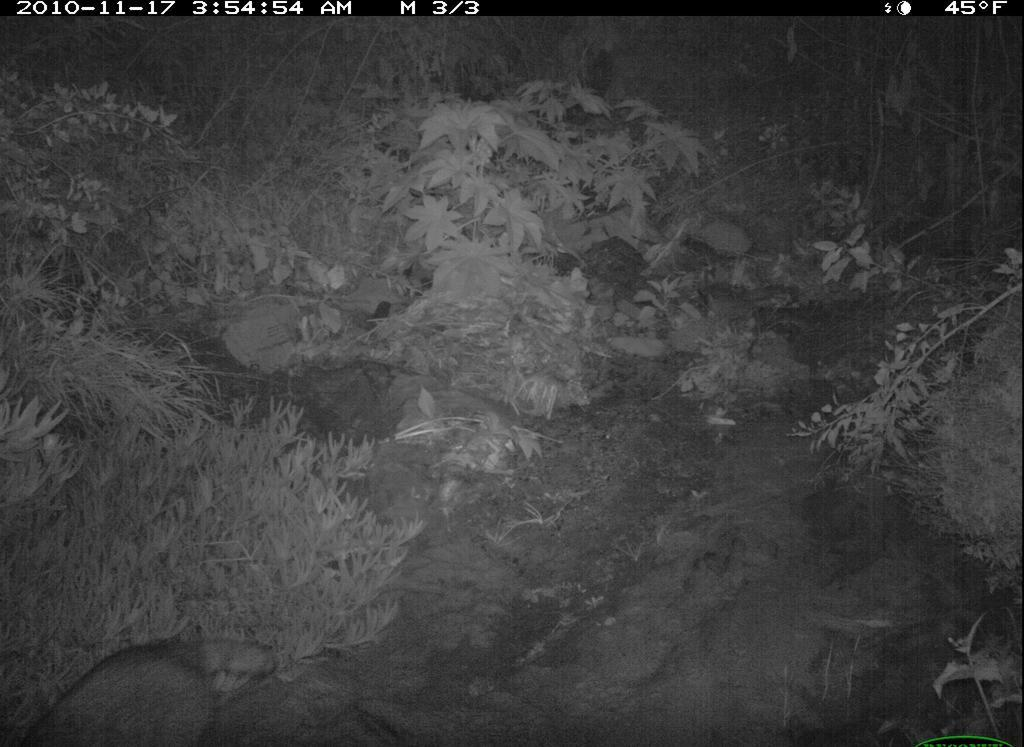raccoon: (15, 625, 236, 747)
